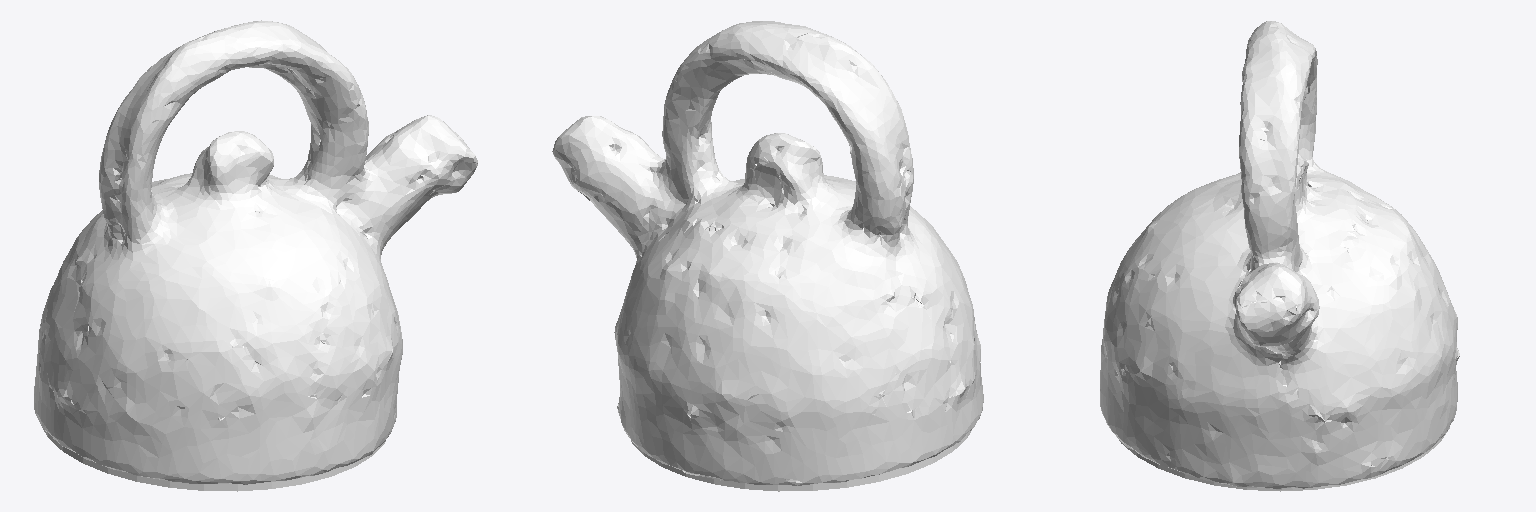
The robot description file, URDF, robot "kettle":
<robot name="kettle">
	<link name="_name">
		<visual>
			<origin rpy="0 0 0" xyz="-8.79207574343692e-03 3.037914496507845e-03 2.0770728588104248e-04" />
			<geometry>
				<mesh filename="kettle/kettle.obj" scale="1 1 1" />
			</geometry>
			<material name="texture">
				<color rgba="1.0 1.0 1.0 1.0" />
			</material>
		</visual>
		<collision>
			<geometry>
				<mesh filename="kettle/kettle_vhacd.obj" scale="1 1 1" />
			</geometry>
		<origin rpy="0 0 0" xyz="-8.79207574343692e-03 3.037914496507845e-03 2.0770728588104248e-03" /></collision>
		<inertial>
			<mass value="1.0" />
			<inertia ixx="1.0" ixy="0.0" ixz="0.0" iyy="1.0" iyz="0.0" izz="1.0" />
		</inertial>
	</link>
</robot>

--- Facts derived from the render (not from the file) ---
Views: 3 orthographic renders of the robot side by side, from view 1: azimuth 30°, elevation 25°; view 2: azimuth 150°, elevation 25°; view 3: azimuth 270°, elevation 25°.
Robot: kettle — 1 links, 0 joints (none); root link _name; default pose: all joints at 0.
Visible links, largest first — view 1: _name; view 2: _name; view 3: _name.
Boxes of the visible links, x1,y1,x2,y2 form: _name: [34, 20, 477, 491]; _name: [552, 21, 983, 491]; _name: [1100, 21, 1459, 491].
Size in the robot's own frame: 0.2439 by 0.1924 by 0.2278 metres.
Meshes: 1 distinct files referenced, 1 mesh visuals loaded (1 OBJ).
